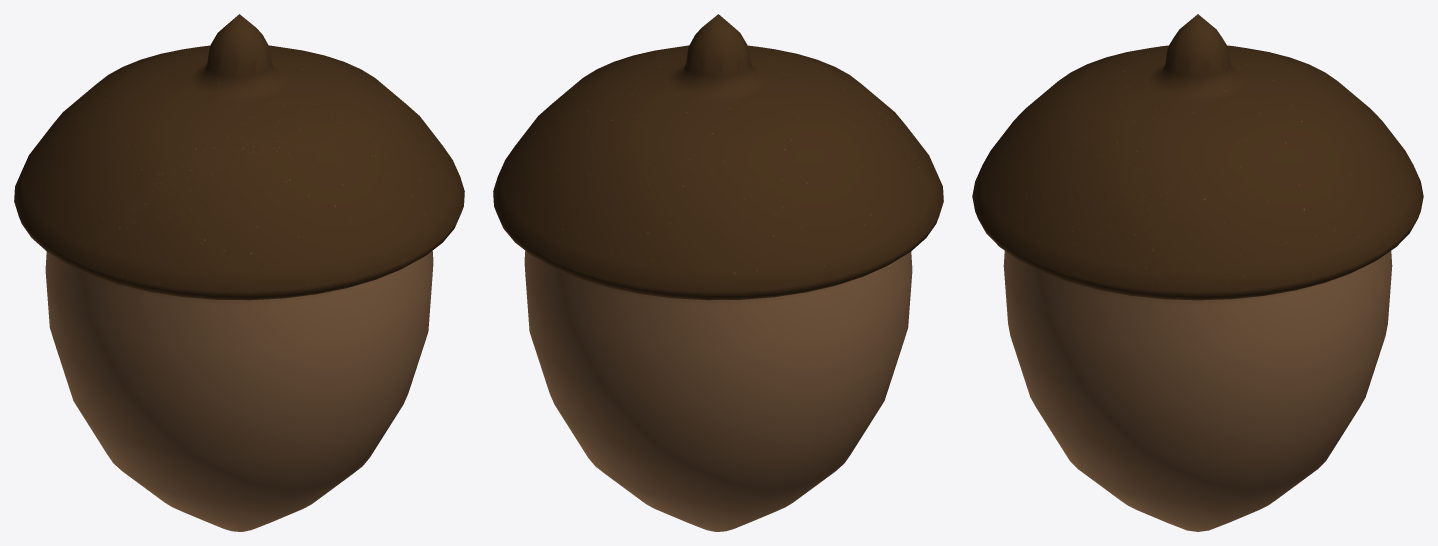
Rendered from Acorn.fbx.
3 views of the same model, side by side, from view 1: azimuth 30°, elevation 25°; view 2: azimuth 150°, elevation 25°; view 3: azimuth 270°, elevation 25° (orthographic).
Visible parts, largest first — view 1: pSphere1; view 2: pSphere1; view 3: pSphere1.
Boxes of the visible parts, x1,y1,x2,y2 form: pSphere1: (14,14,464,531); pSphere1: (493,14,943,531); pSphere1: (972,14,1423,531).
Bounding box in the file's own units: 2.23 × 2.82 × 2.23.
